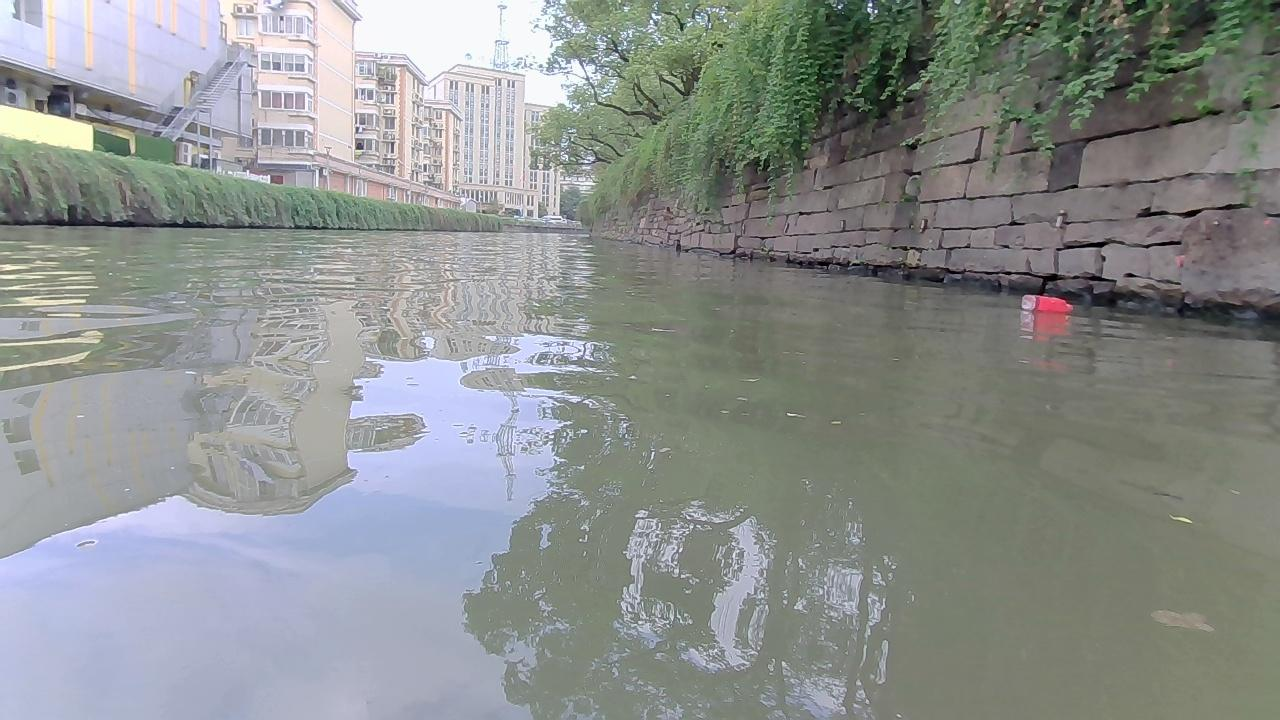bottle: (1020, 293, 1073, 312)
